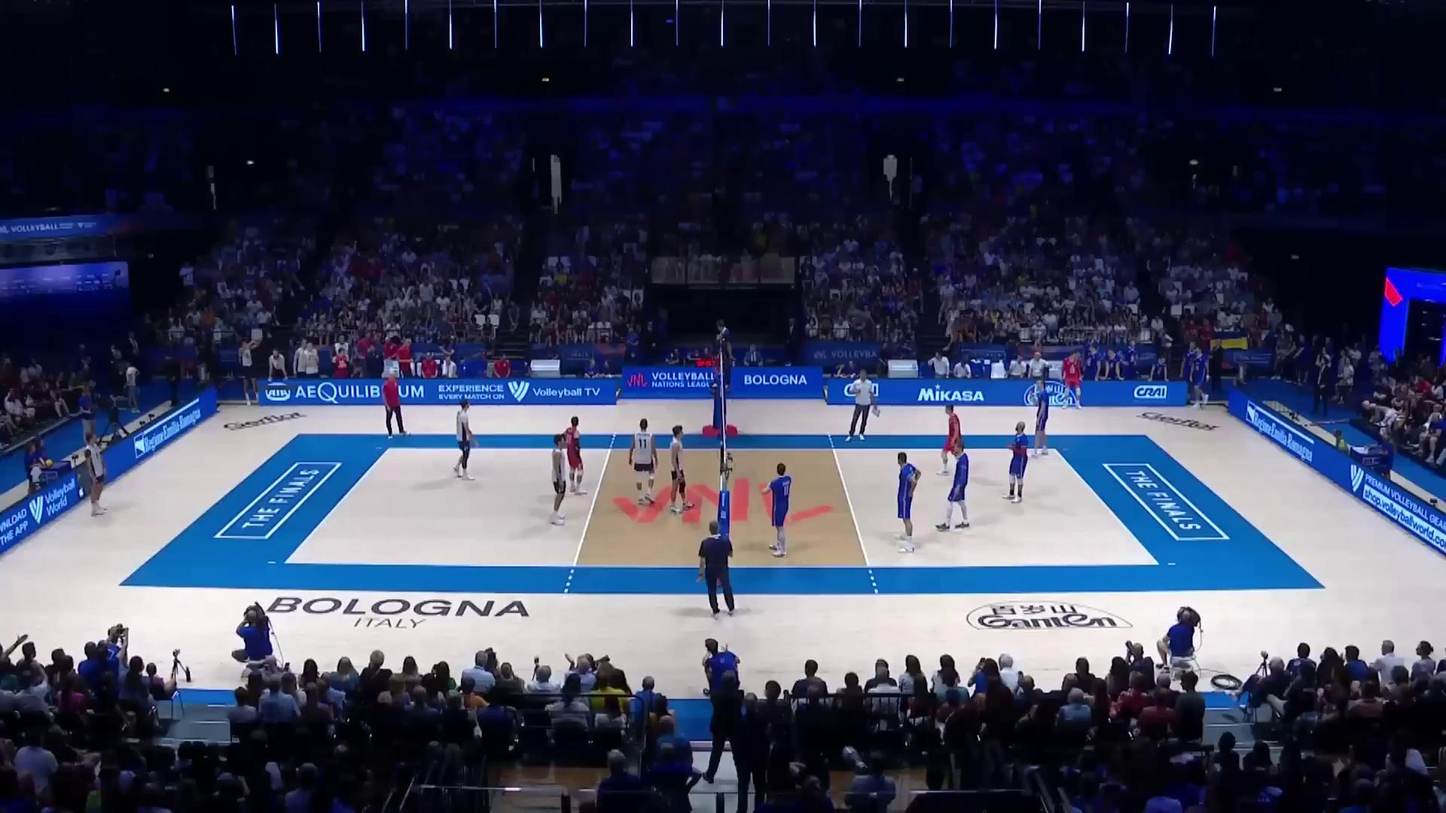player: (942, 438, 974, 531), (895, 453, 924, 554), (763, 465, 792, 557), (630, 419, 658, 506), (668, 425, 694, 513), (1006, 422, 1032, 505), (84, 434, 107, 517), (453, 398, 476, 479), (550, 434, 569, 527), (941, 406, 966, 475), (563, 416, 585, 493), (1033, 380, 1051, 457)
refree: (699, 520, 736, 615), (714, 322, 731, 377)
